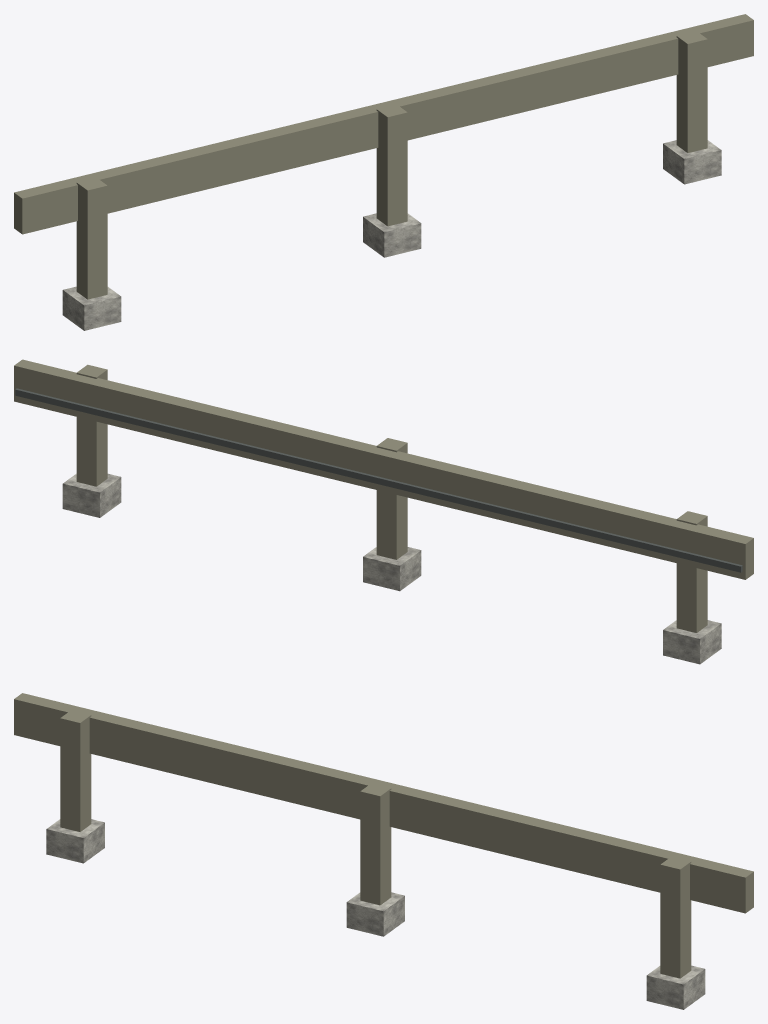
File: valley-road-guardrail.obj
3 renders of one model, top to bottom at view 1: azimuth 30°, elevation 25°; view 2: azimuth 150°, elevation 25°; view 3: azimuth 330°, elevation 25°, orthographic.
Bounding box in the file's own units: 5.12 × 0.9 × 0.3.
3 materials, 1 textured.
